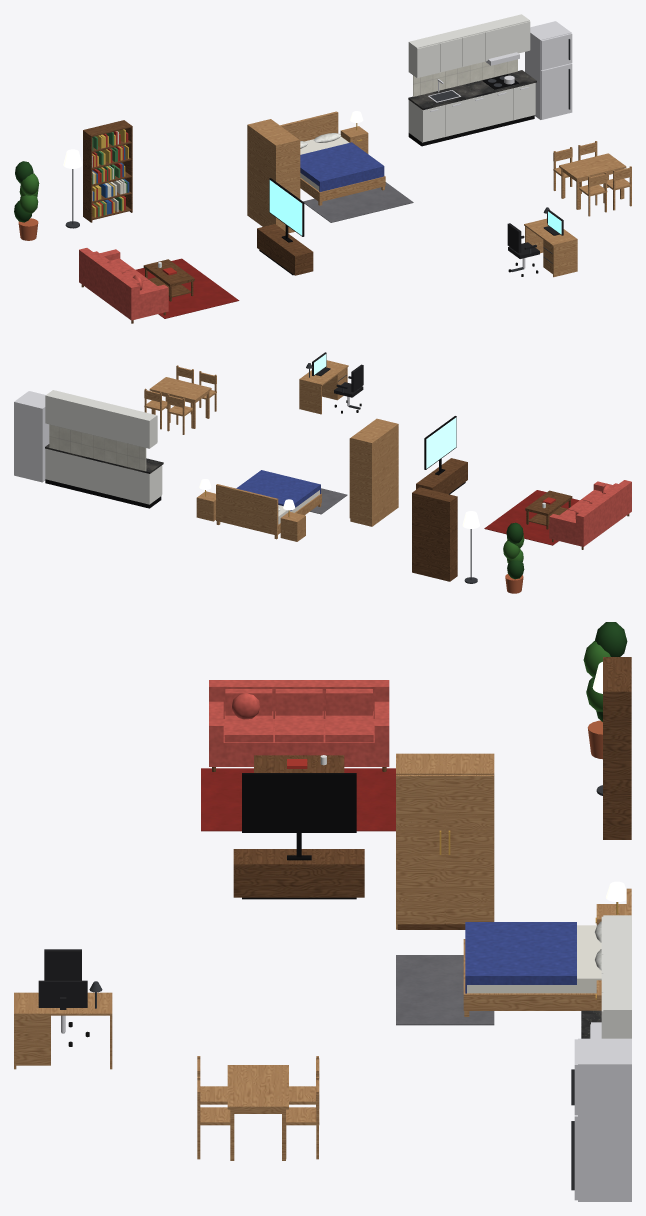
File: i_korean_hanok.gltf
3 views of the same model, one above another, from view 1: azimuth 30°, elevation 25°; view 2: azimuth 150°, elevation 25°; view 3: azimuth 270°, elevation 25° (orthographic). The views are drawn at different scales.
Parts seen in each view (by area): view 1: I_korean_hanok; view 2: I_korean_hanok; view 3: I_korean_hanok.
Part boxes in pixels (x1,y1,x2,y2): I_korean_hanok: (14,14,631,323); I_korean_hanok: (14,352,631,593); I_korean_hanok: (14,622,631,1201).
Bounding box in the file's own units: 13.25 × 2.2 × 7.54.
Materials: 29 (10 with a texture image).
